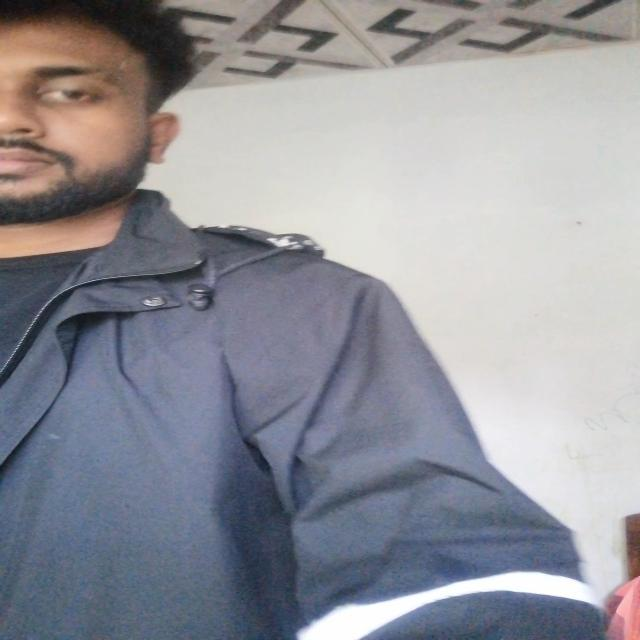Jacket_Wearer: (4, 220, 587, 638)
